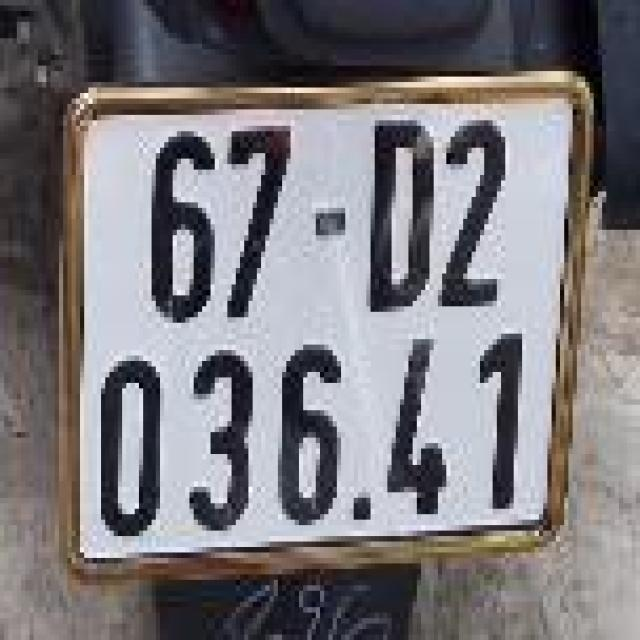0: (78, 342, 170, 550)
1: (470, 320, 532, 511)
2: (440, 101, 512, 336)
3: (183, 328, 263, 547)
4: (377, 317, 465, 514)
6: (272, 323, 368, 558), (133, 120, 221, 328)
7: (213, 107, 301, 309)
D: (360, 101, 440, 326)
